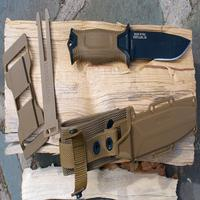knife: (60, 22, 190, 71)
